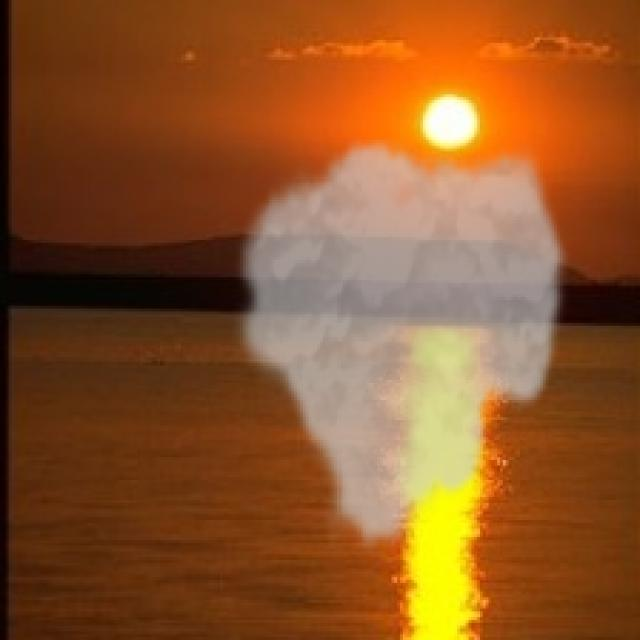smoke: (228, 135, 572, 554)
